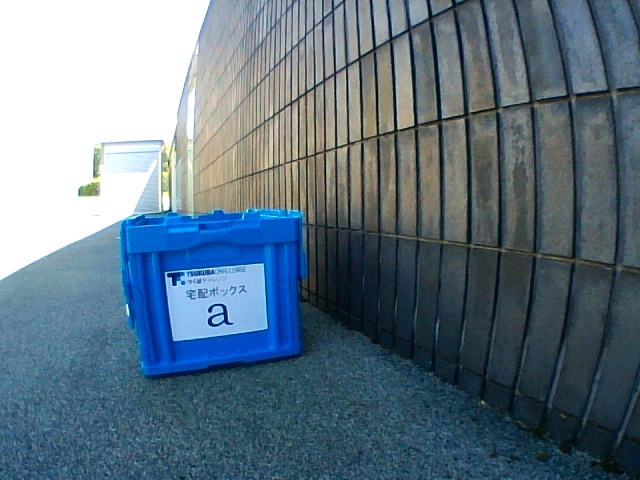blue_box: (120, 208, 306, 373), (179, 273, 260, 327)
